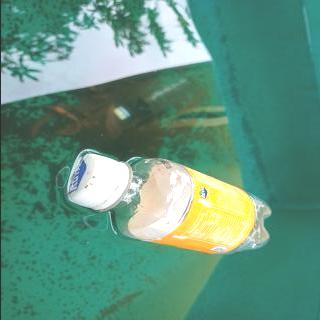bottle: (63, 150, 274, 256)
